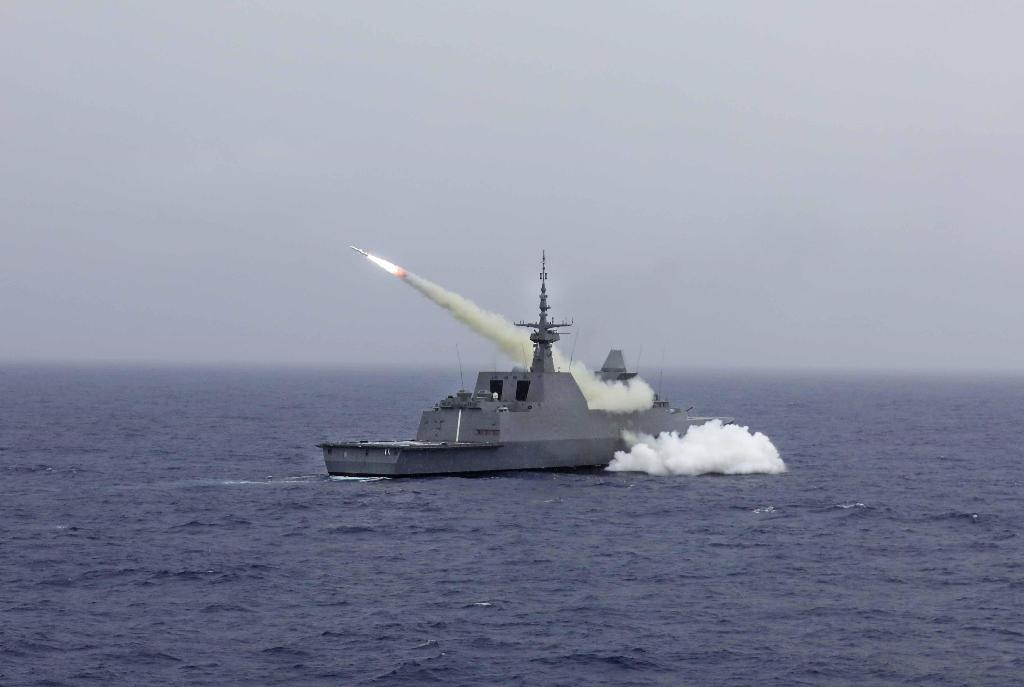Warship: (311, 245, 751, 488)
